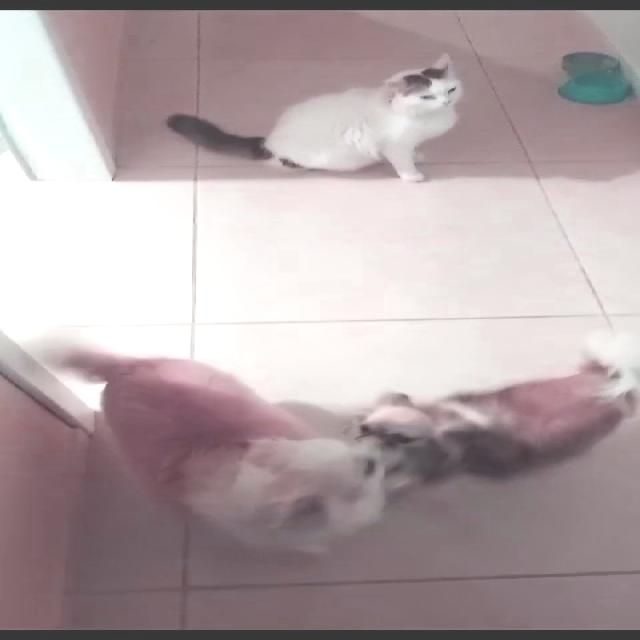Pedrita: (329, 348, 639, 493)
Simba: (165, 41, 510, 193)
Theo: (64, 304, 482, 578)
